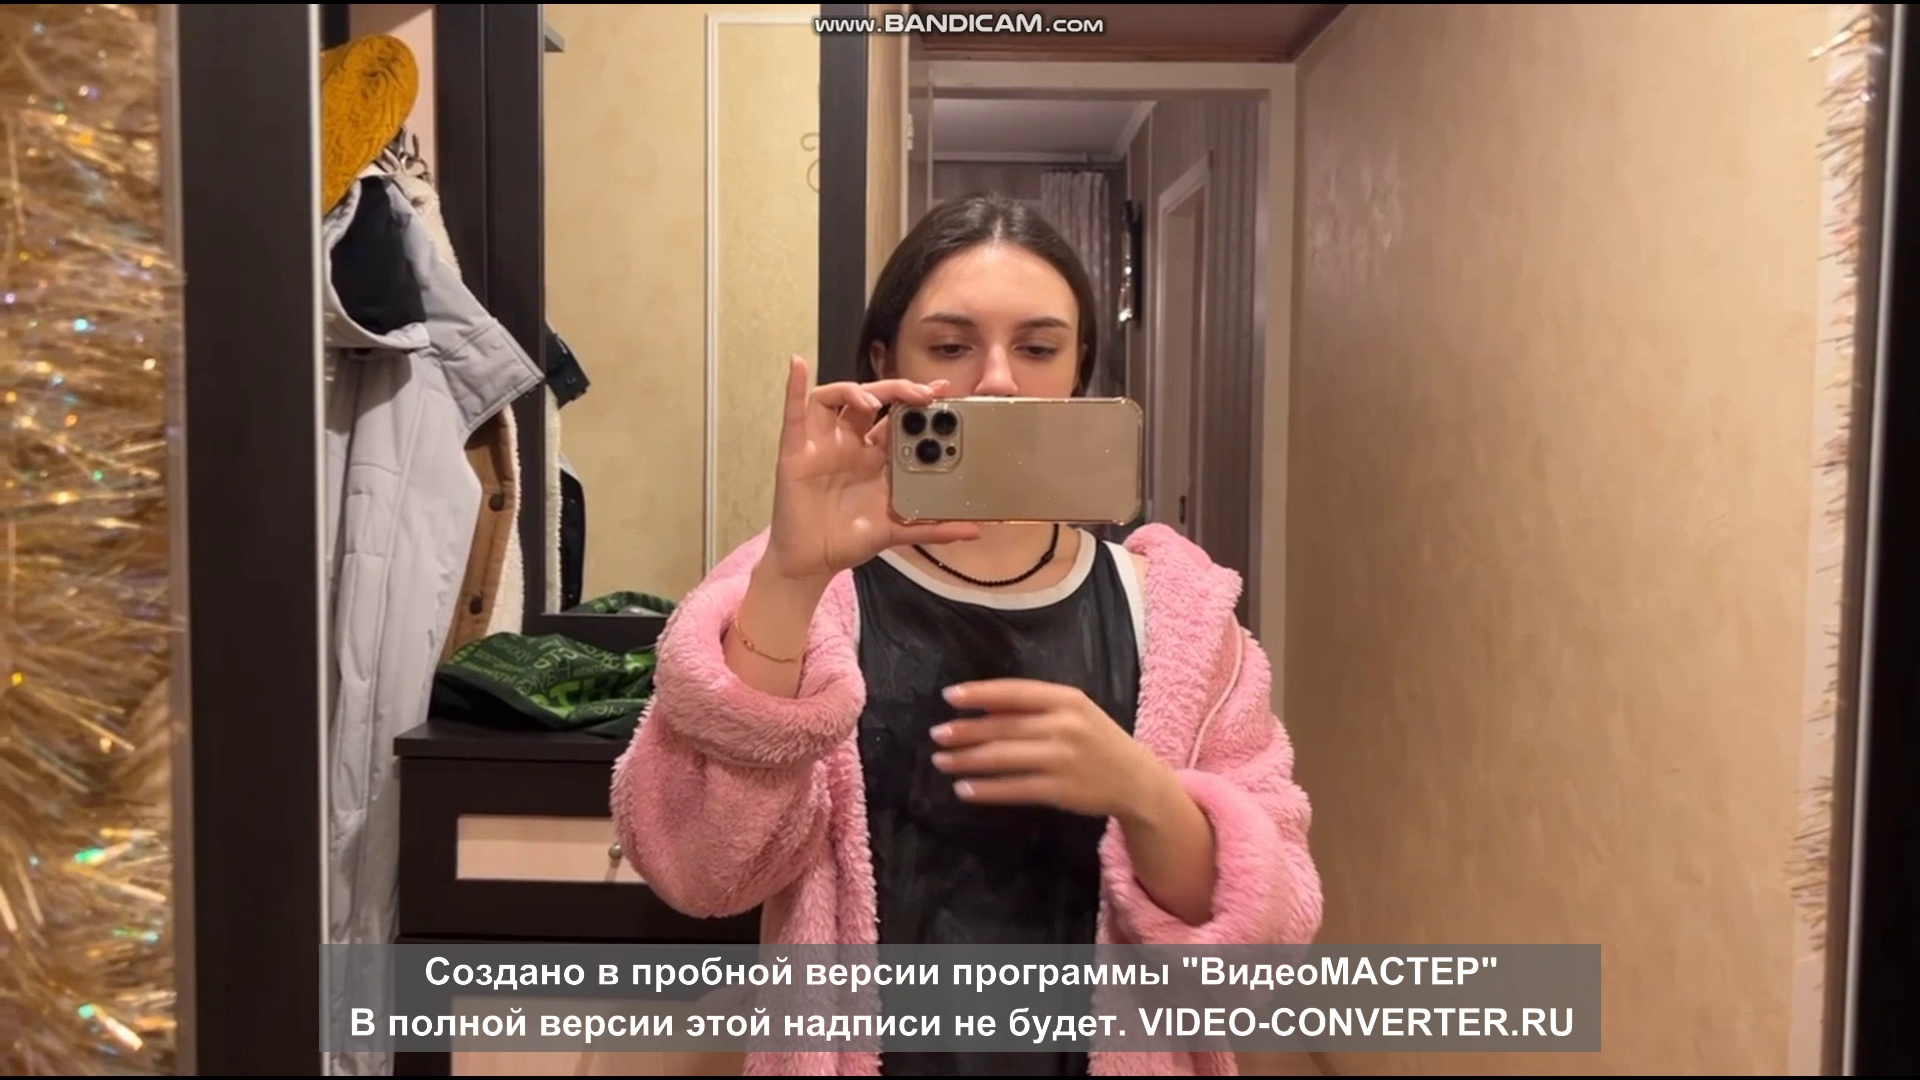Кисть: (928, 674, 1138, 815)
